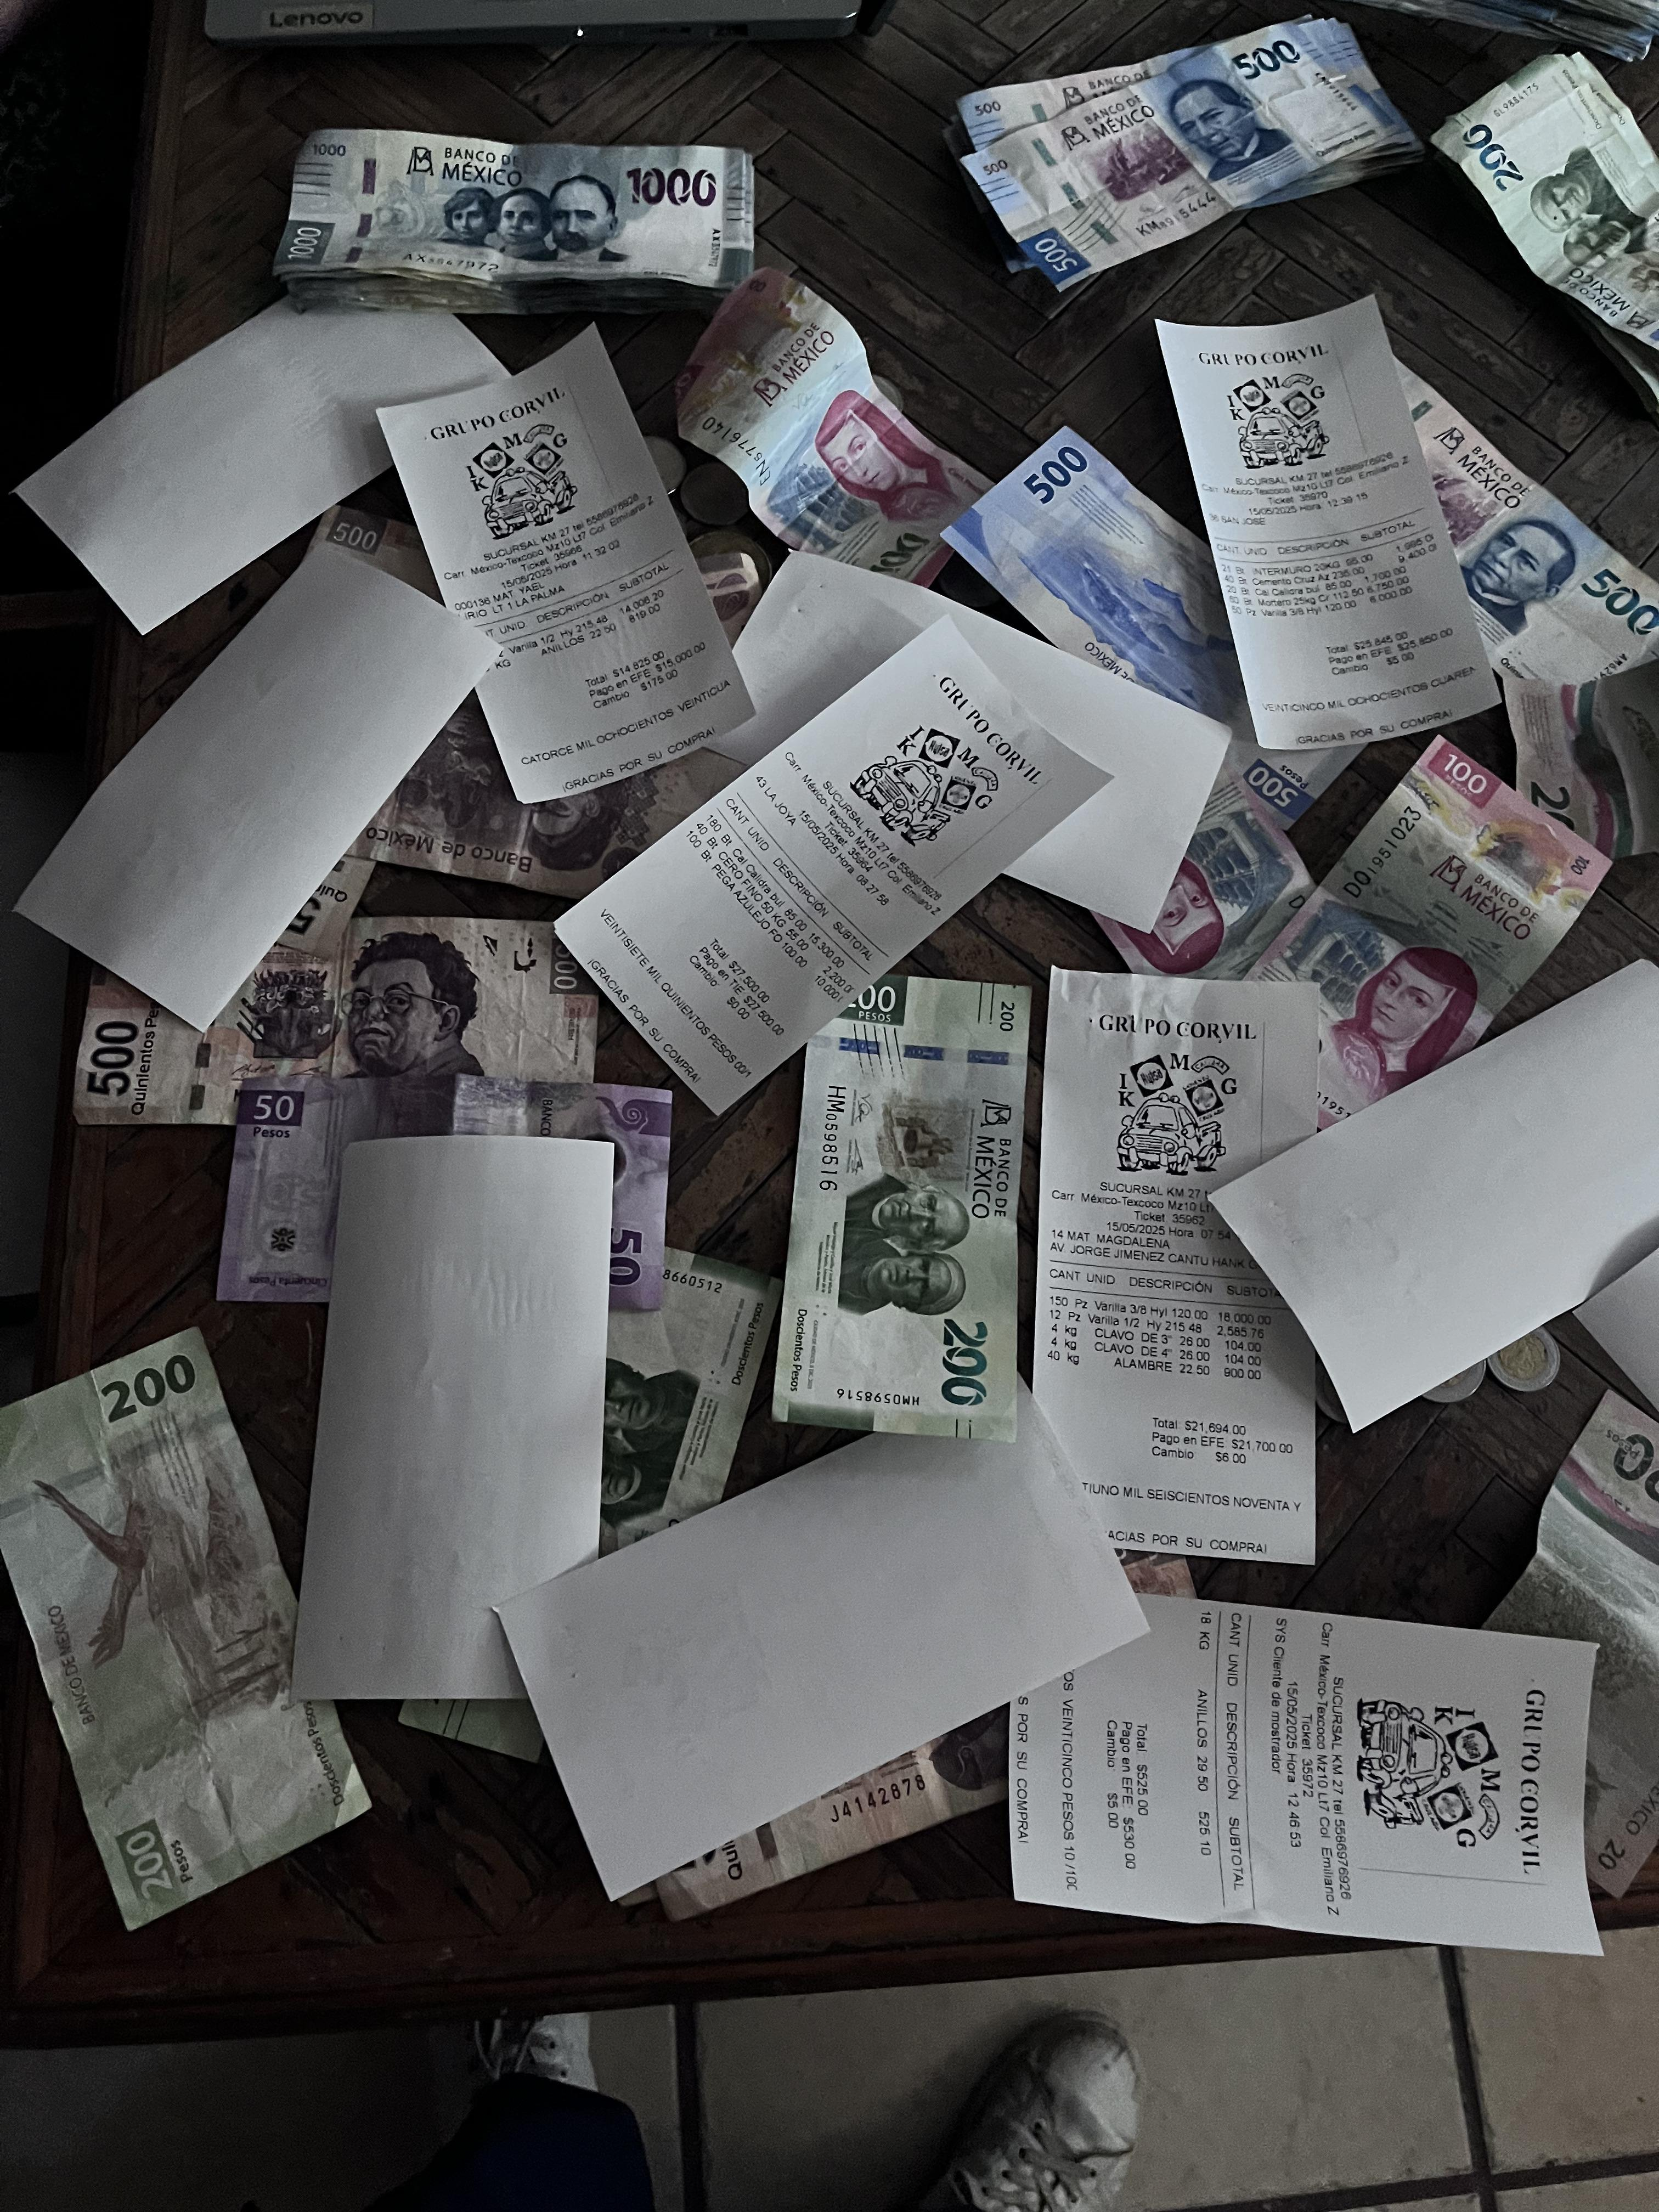100: (1157, 693, 1621, 1108)
1000: (254, 110, 796, 326)
20: (1446, 1364, 1659, 1918)
200: (0, 1331, 397, 1961), (455, 1221, 763, 1810), (641, 247, 1006, 617), (782, 946, 1033, 1449), (1405, 38, 1659, 397)
50: (195, 1071, 683, 1325)
500: (620, 1541, 1208, 1939), (200, 596, 840, 934), (0, 897, 626, 1160)
500 nuevo: (932, 401, 1373, 864), (1319, 329, 1659, 732), (965, 19, 1396, 326)
